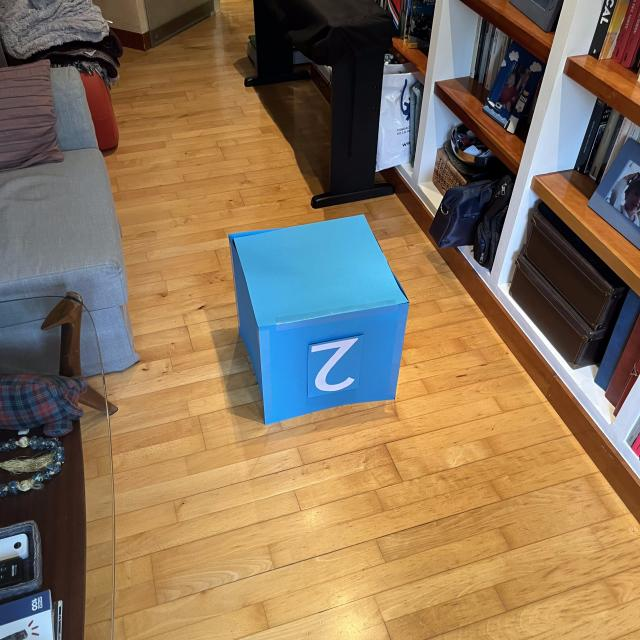box: (225, 212, 411, 426)
